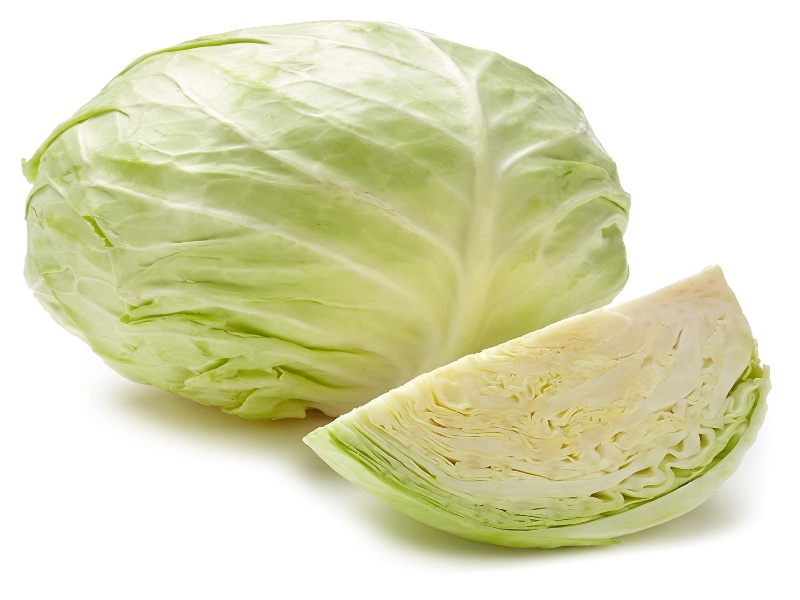Repollo: (21, 16, 638, 463), (281, 259, 800, 563)
